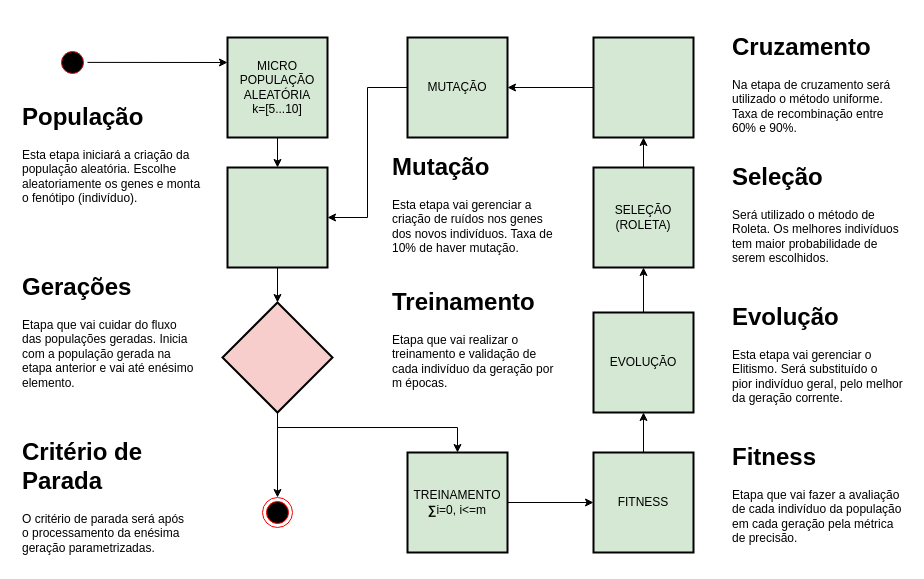
Image size: 924x579. Some labels were removed from this diagram. Each missing label, with the centre of its shape:
"CRITÉRIO DE PARADA" belongs at point (277, 357).
"CROSSOVER" belongs at point (643, 87).
"GERAÇÕES ∑ i=0, i<=n" belongs at point (277, 217).
